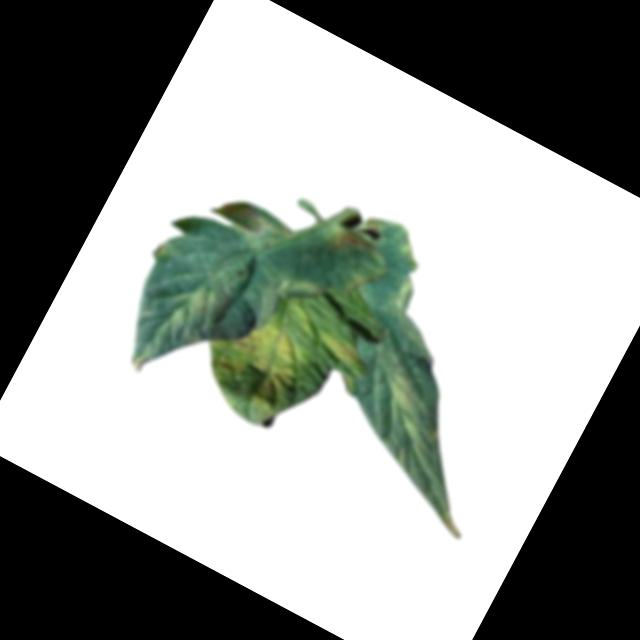Leaf_Mold: (193, 300, 317, 423), (366, 364, 447, 447), (155, 272, 234, 355), (209, 193, 282, 256), (324, 221, 378, 266), (312, 325, 364, 370)
